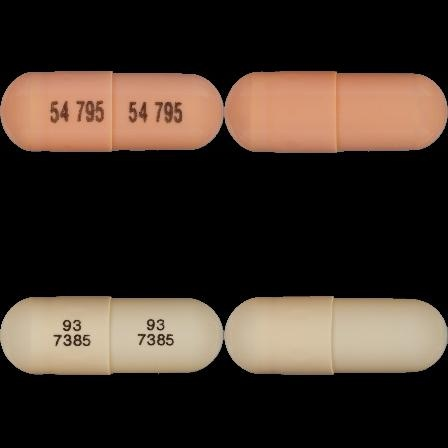54868-6137: (0, 0, 224, 224)
